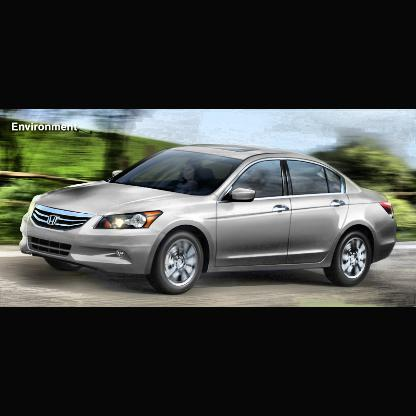Honda Accord Sedan 2012: (20, 148, 395, 295)
